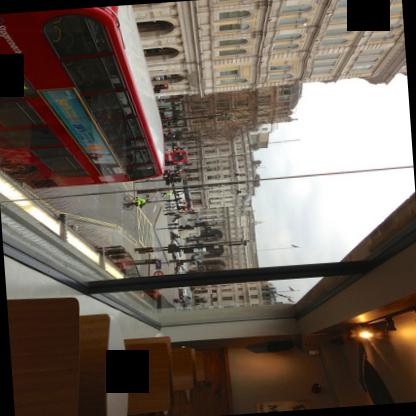backpack: (139, 203, 145, 208)
